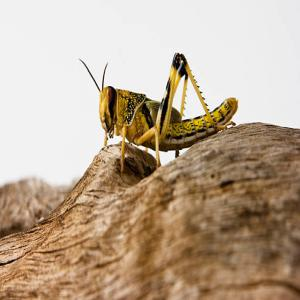locust: (82, 37, 247, 177)
